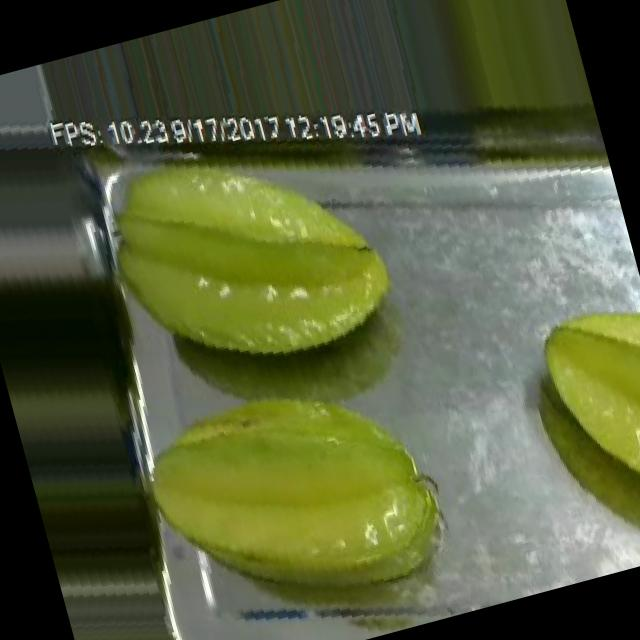fruit: (110, 318, 494, 640), (81, 88, 432, 424), (494, 266, 640, 575), (415, 0, 604, 179)
